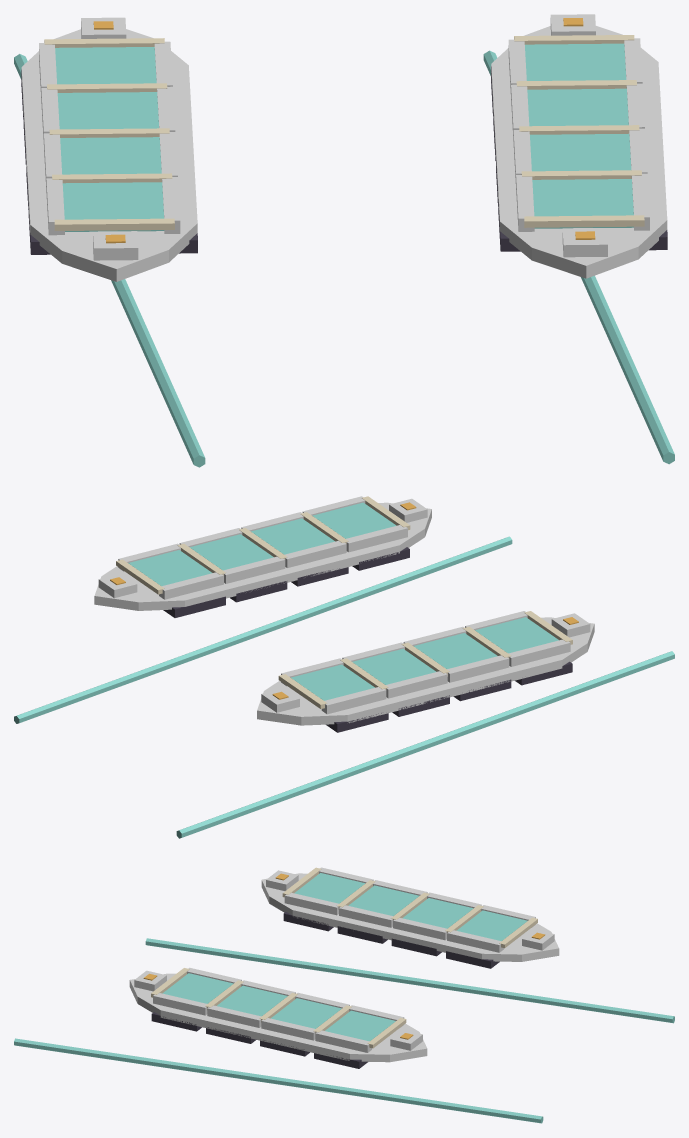
Rendered from space_scene_jump_manifest.glb.
3 views of the same model, one above another, from view 1: azimuth 30°, elevation 25°; view 2: azimuth 150°, elevation 25°; view 3: azimuth 270°, elevation 25° (orthographic). The views are drawn at different scales.
Visible parts, largest first — view 1: FixedDetails, WoodBody, BrassTrim; view 2: FixedDetails, WoodBody, BrassTrim; view 3: FixedDetails, WoodBody, BrassTrim.
Boxes of the visible parts, x1,y1,x2,y2 form: FixedDetails: (14, 43, 674, 467); WoodBody: (21, 14, 667, 281); BrassTrim: (44, 18, 644, 243); FixedDetails: (14, 502, 674, 838); WoodBody: (94, 496, 594, 725); BrassTrim: (110, 496, 578, 708); FixedDetails: (14, 873, 674, 1123); WoodBody: (129, 867, 559, 1062); BrassTrim: (143, 867, 545, 1048).
Bounding box in the file's own units: 0.6607 × 0.1311 × 1.
